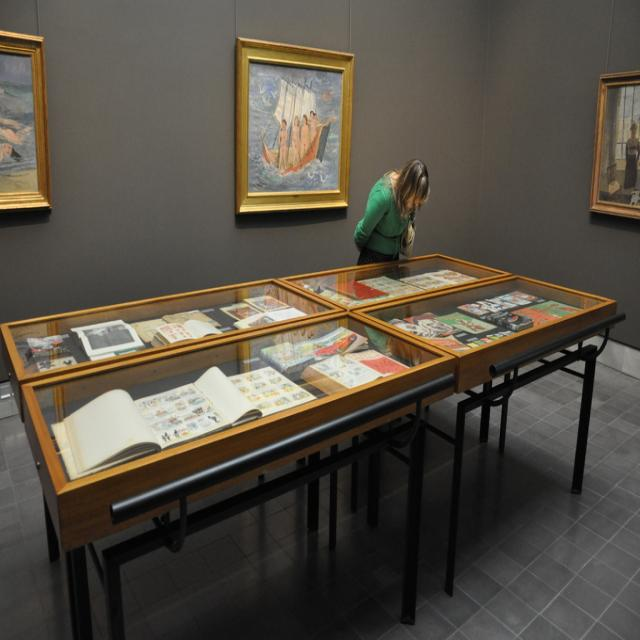desk: (12, 215, 640, 630)
person: (353, 158, 430, 268)
